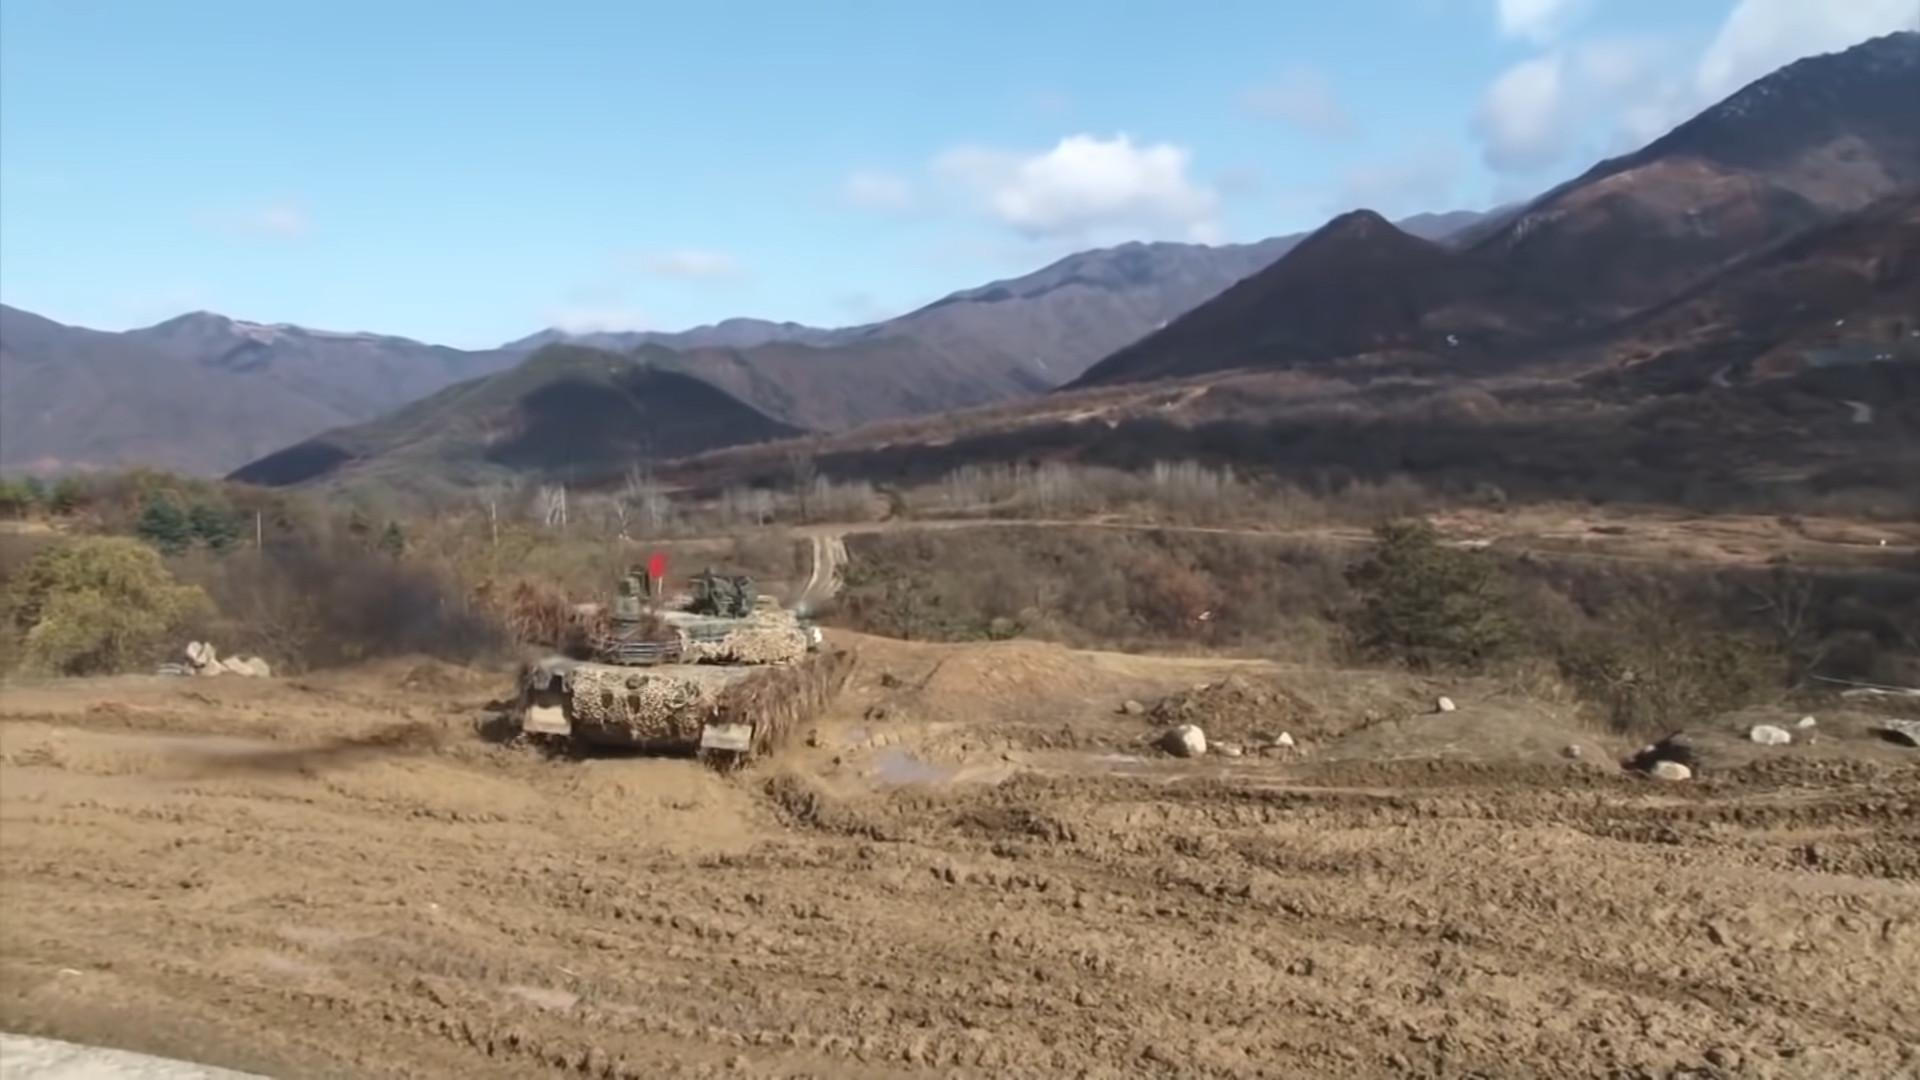tank: (522, 566, 857, 765)
